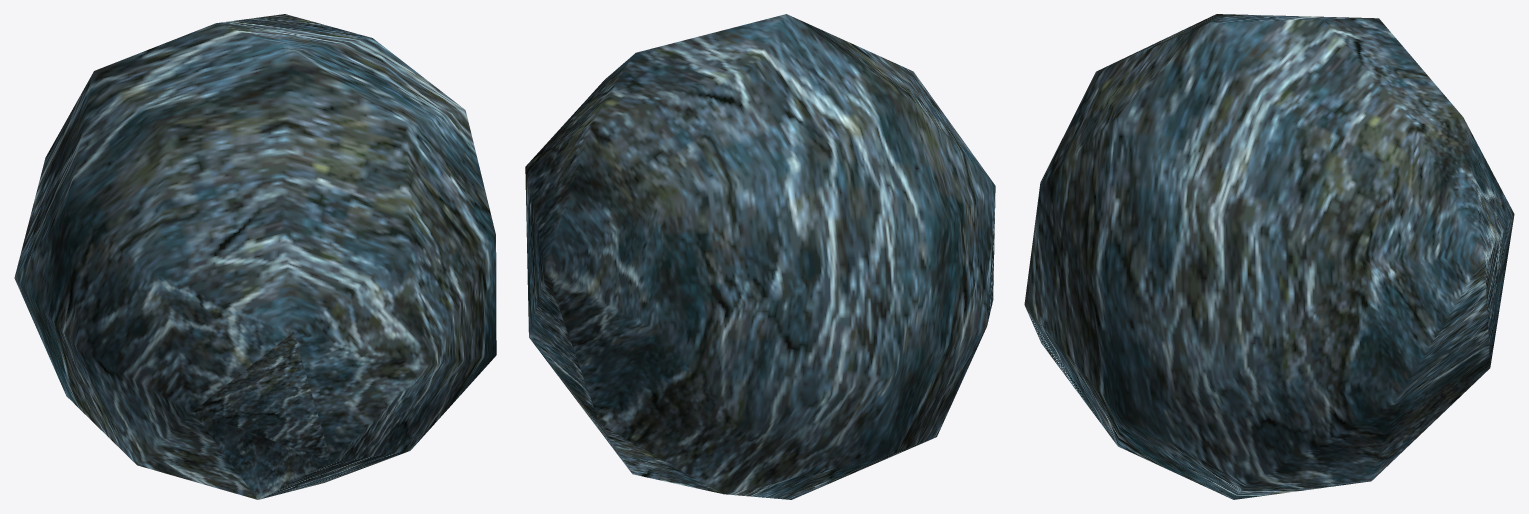
Rendered from Meteor.obj.
The picture shows the model from 3 angles, left to right: view 1: azimuth 30°, elevation 25°; view 2: azimuth 150°, elevation 25°; view 3: azimuth 270°, elevation 25°; orthographic projection.
Bounding box in the file's own units: 86.77 × 89.23 × 86.95.
Materials: 1 (1 with a texture image).
